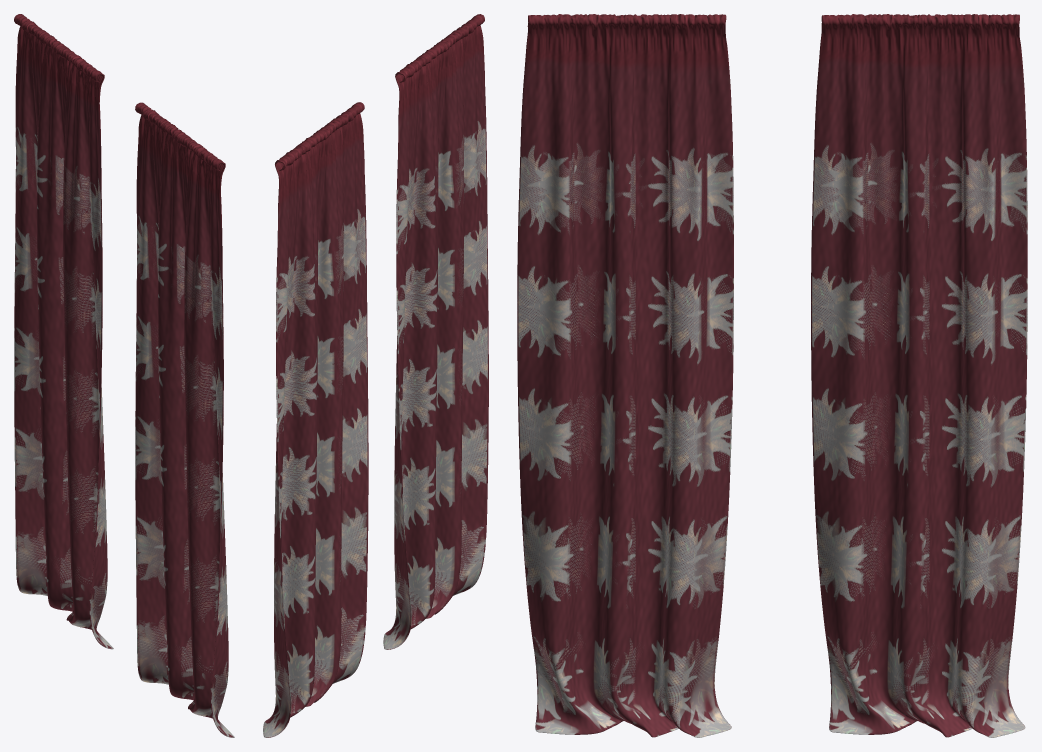
The model's file is objs_.glb.
3 views of the same model, side by side, from view 1: azimuth 30°, elevation 25°; view 2: azimuth 150°, elevation 25°; view 3: azimuth 270°, elevation 25° (orthographic). The views are drawn at different scales.
Visible parts, largest first — view 1: Semi-Sheer Rod Pocket Curtains - Left2, Semi-Sheer Rod Pocket Curtains - Left; view 2: Semi-Sheer Rod Pocket Curtains - Left, Semi-Sheer Rod Pocket Curtains - Left2; view 3: Semi-Sheer Rod Pocket Curtains - Left2, Semi-Sheer Rod Pocket Curtains - Left.
Boxes of the visible parts, <box> form: Semi-Sheer Rod Pocket Curtains - Left2: <box>14,14,113,649</box>; Semi-Sheer Rod Pocket Curtains - Left: <box>135,102,234,737</box>; Semi-Sheer Rod Pocket Curtains - Left: <box>383,14,488,649</box>; Semi-Sheer Rod Pocket Curtains - Left2: <box>263,102,368,737</box>; Semi-Sheer Rod Pocket Curtains - Left2: <box>811,14,1027,737</box>; Semi-Sheer Rod Pocket Curtains - Left: <box>517,14,733,737</box>.
Bounding box in the file's own units: 0.1886 × 2.89 × 1.89.
Materials: 1 (1 with a texture image).
